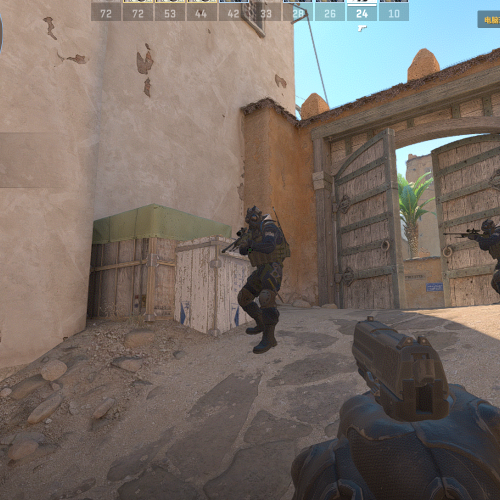ct_body: (235, 206, 291, 354), (473, 219, 499, 303)
ct_head: (244, 206, 263, 226), (481, 218, 497, 234)
